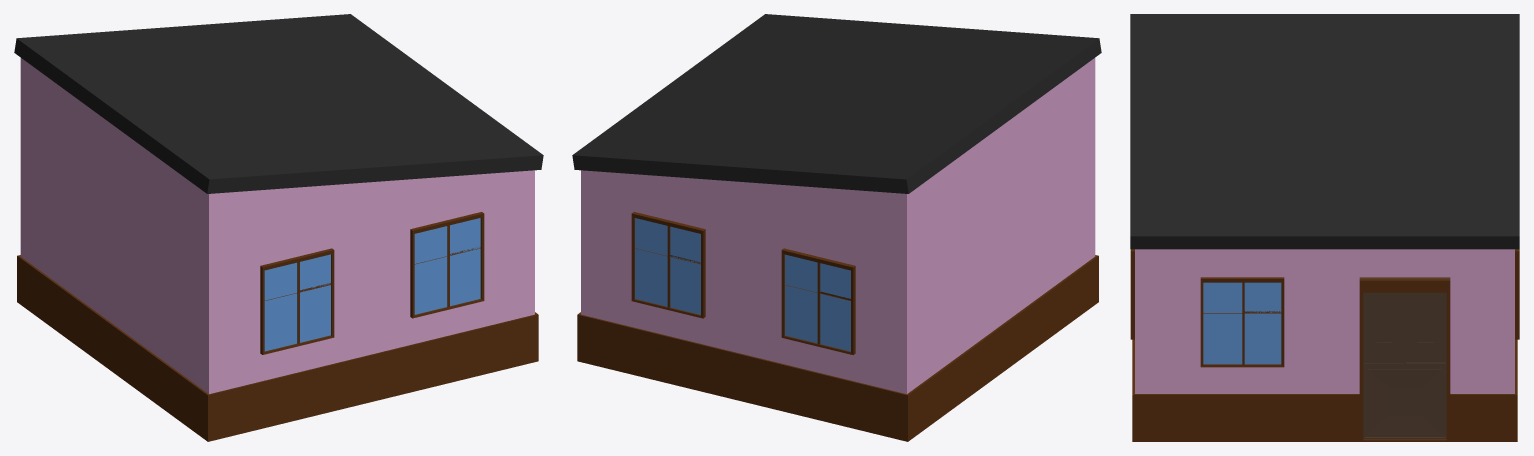
Rendered from house4TS.fbx.
3 views of the same model, side by side, from view 1: azimuth 30°, elevation 25°; view 2: azimuth 150°, elevation 25°; view 3: azimuth 270°, elevation 25° (orthographic).
Parts seen in each view (by area): view 1: Cube, Cube.002, Cube.003; view 2: Cube, Cube.005, Cube.004; view 3: Cube, Cube.057, Cube.001, Cube.002, Cube.004.
Part boxes in pixels (x1,y1,x2,y2): Cube: (14, 14, 543, 441); Cube.002: (410, 212, 484, 318); Cube.003: (260, 248, 334, 354); Cube: (572, 14, 1101, 441); Cube.005: (781, 248, 855, 354); Cube.004: (631, 212, 705, 318); Cube: (1130, 14, 1519, 441); Cube.057: (1359, 277, 1450, 441); Cube.001: (1200, 277, 1284, 367); Cube.002: (1130, 249, 1134, 339); Cube.004: (1515, 249, 1519, 339).
Size of the model in its own units: 434 by 324 by 431.
